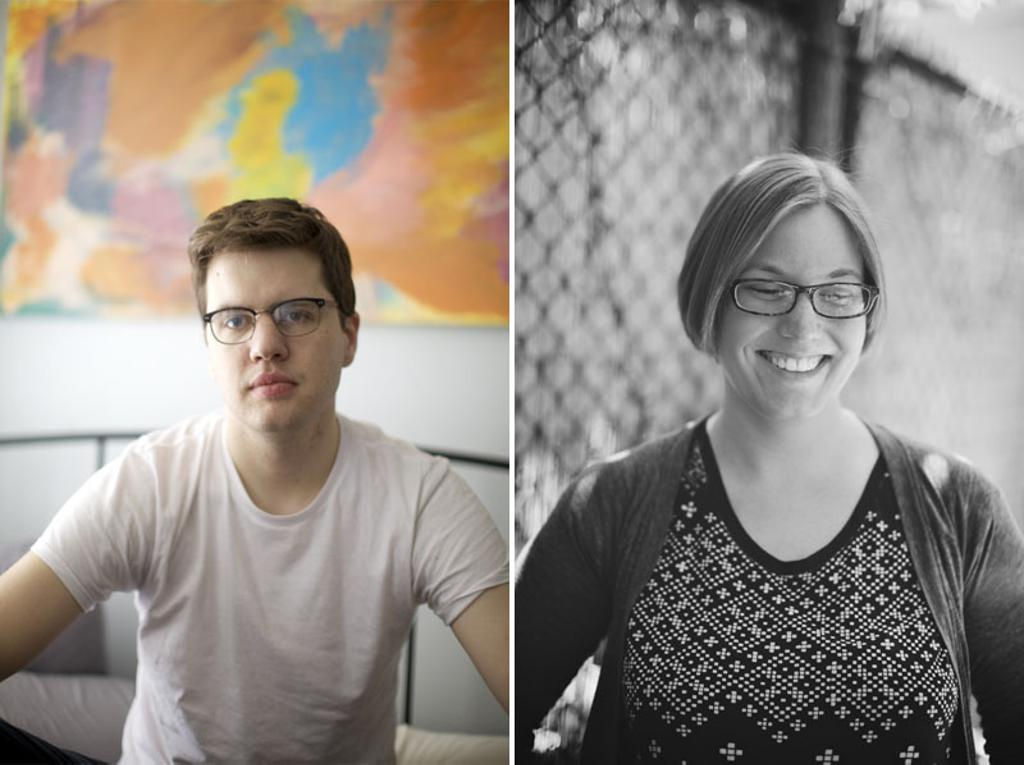face: (728, 200, 852, 420), (204, 242, 344, 426)
